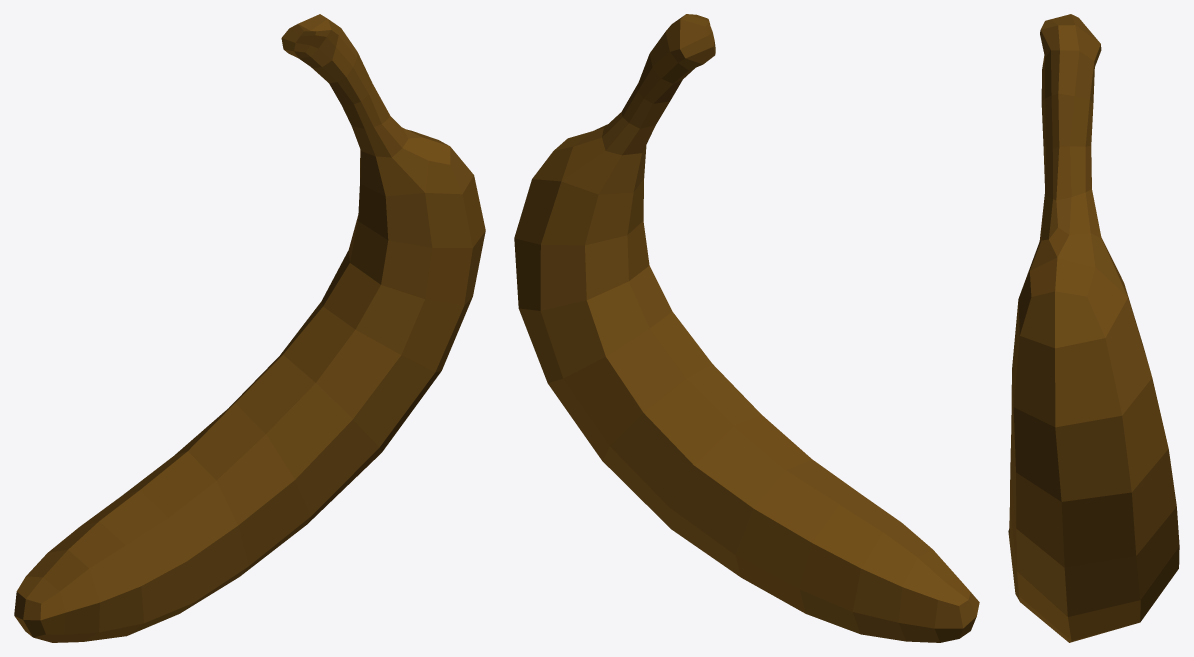
The model's file is Banana.obj.
3 renders of one model, left to right at view 1: azimuth 30°, elevation 25°; view 2: azimuth 150°, elevation 25°; view 3: azimuth 270°, elevation 25°, orthographic. The views are drawn at different scales.
Visible parts, largest first — view 1: Banana_Cube.038; view 2: Banana_Cube.038; view 3: Banana_Cube.038.
Part boxes in pixels (box(x1,y1,x2,y2)): Banana_Cube.038: box(14, 14, 485, 642); Banana_Cube.038: box(514, 14, 979, 642); Banana_Cube.038: box(1008, 14, 1179, 642).
Bounding box in the file's own units: 1.18 × 1.4 × 0.3095.
